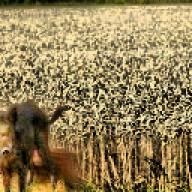boar: (0, 99, 64, 192)
